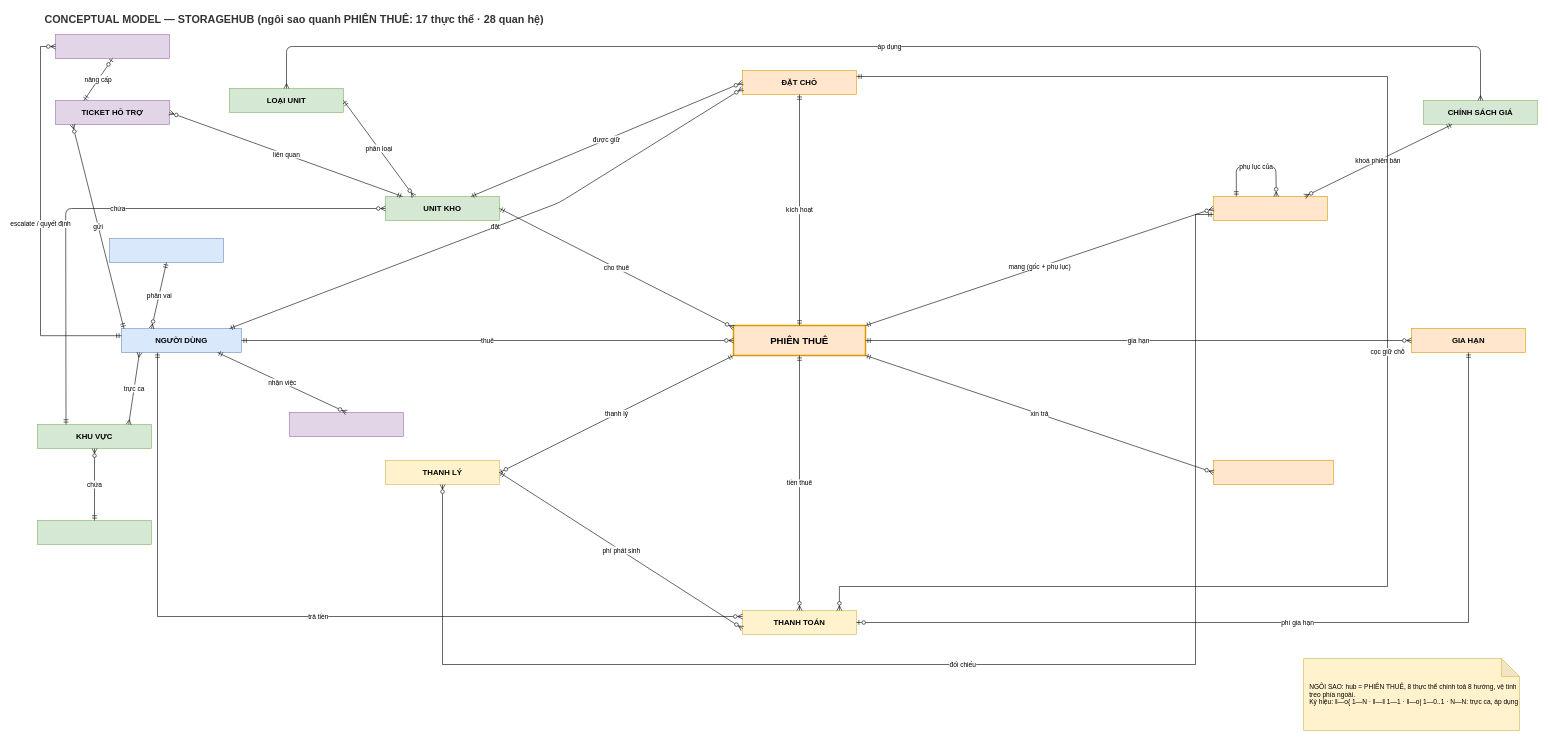
The diagram is 1548 pixels wide and 741 high, and some of its shapes have lost their labels. Here are the shapes that lost their labels. From the top down, the box of each, then its label:
(55, 34, 170, 58): ESCALATION
(1213, 196, 1328, 220): HỢP ĐỒNG
(109, 238, 224, 262): VAI TRÒ
(289, 412, 404, 436): TASK
(1213, 460, 1334, 484): YÊU CẦU TRẢ KHO
(37, 520, 152, 544): CƠ SỞ
